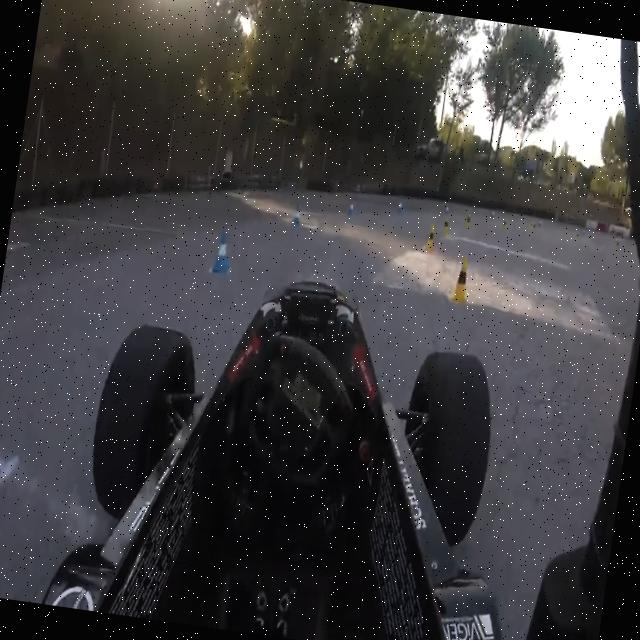blue_cone: (212, 228, 236, 274), (292, 206, 303, 227), (348, 202, 356, 218)
yellow_cone: (451, 256, 473, 306), (423, 222, 439, 255), (442, 216, 453, 238)
